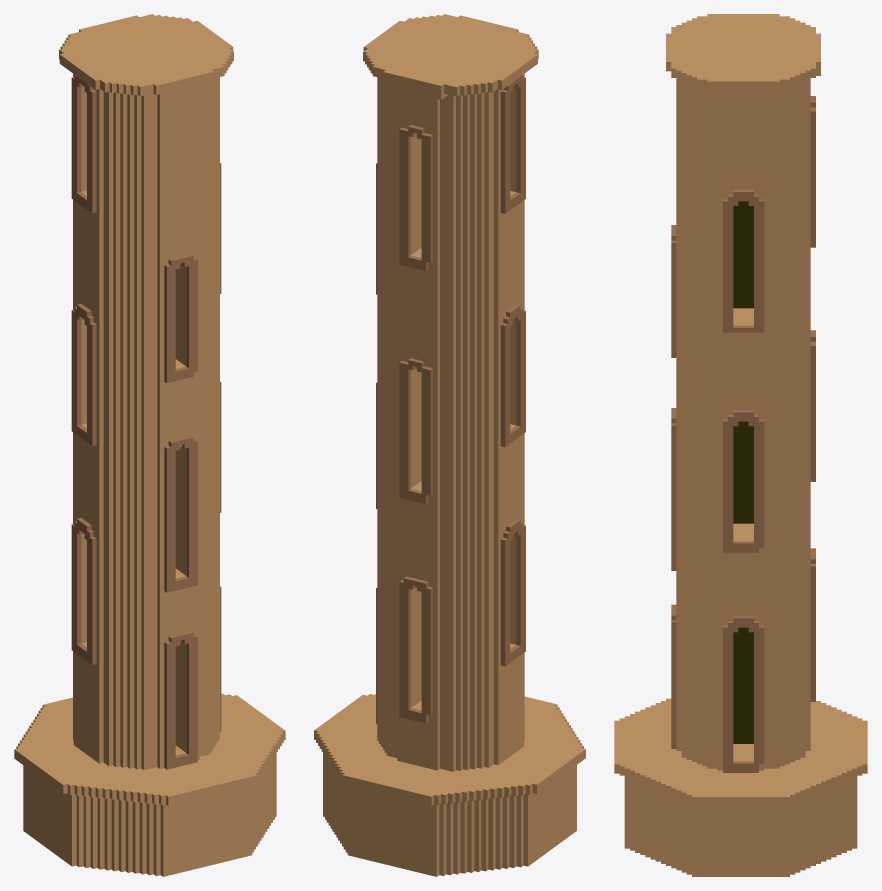
The model's file is Pillar_lava_obj-6.obj.
3 renders of one model, left to right at view 1: azimuth 30°, elevation 25°; view 2: azimuth 150°, elevation 25°; view 3: azimuth 270°, elevation 25°, orthographic.
Bounding box in the file's own units: 5 × 16.6 × 4.9.
1 material, 1 textured.
